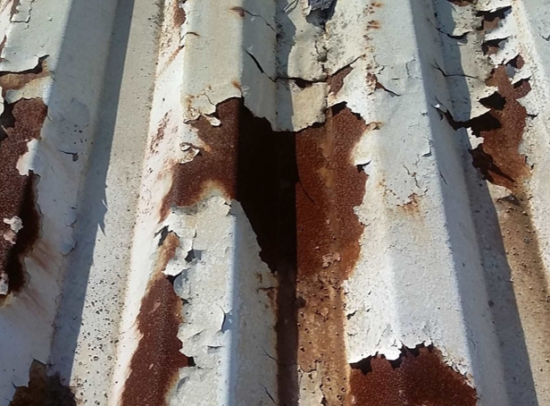rust: (197, 105, 365, 290), (333, 343, 476, 406), (1, 100, 43, 296), (469, 65, 530, 180), (126, 286, 180, 401)
